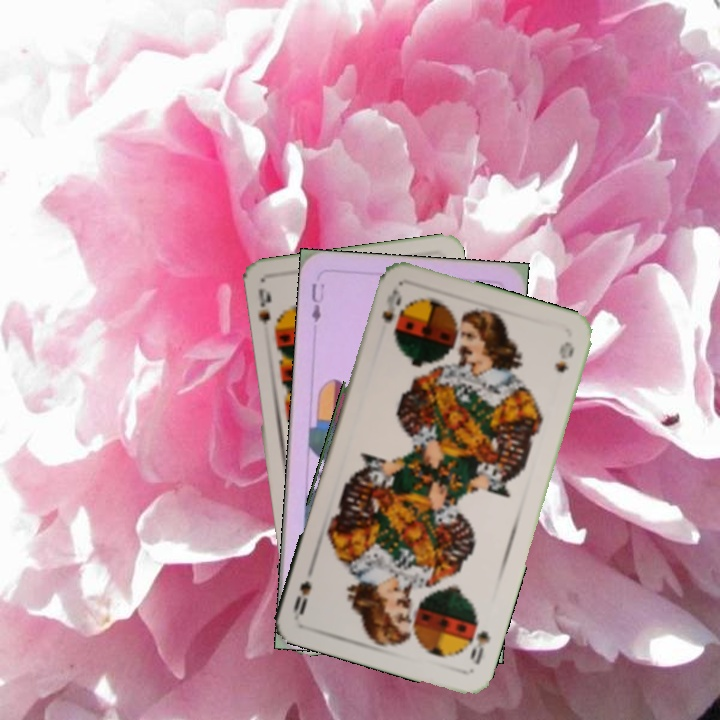EU: (307, 279, 327, 326)
S9: (254, 284, 274, 328)
SO: (466, 615, 493, 667), (378, 285, 405, 325)
